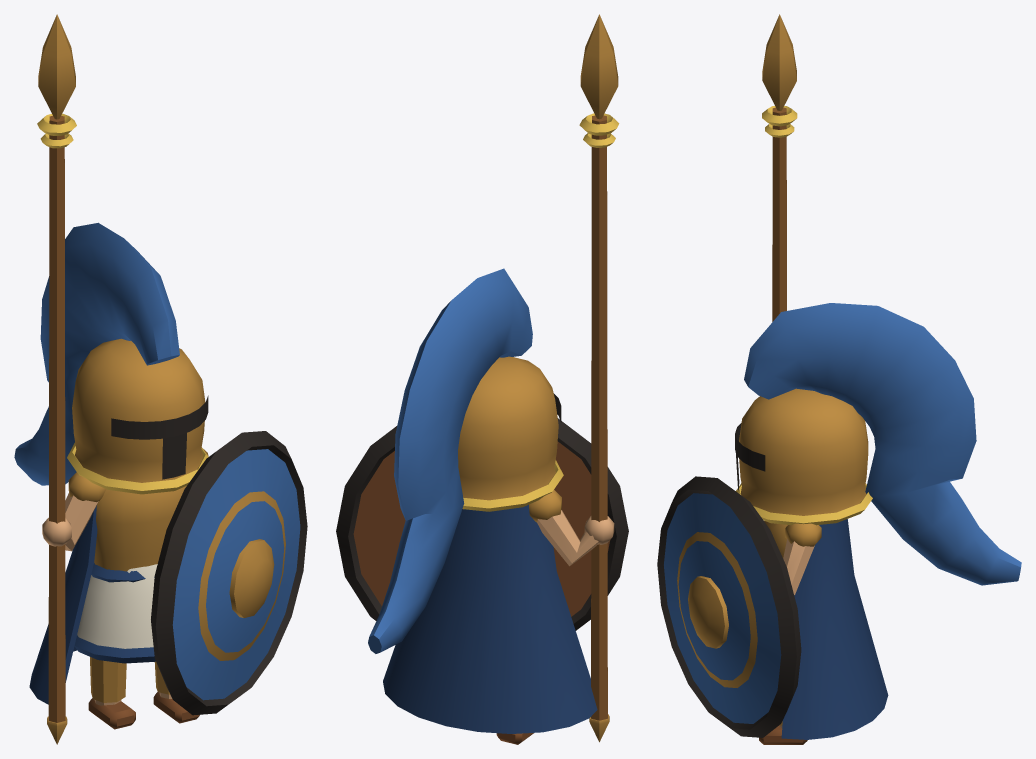
Rendered from hector.glb.
The picture shows the model from 3 angles, left to right: view 1: azimuth 30°, elevation 25°; view 2: azimuth 150°, elevation 25°; view 3: azimuth 270°, elevation 25°; orthographic projection. The views are drawn at different scales.
Visible parts, largest first — view 1: hector; view 2: hector; view 3: hector.
Part boxes in pixels (x1=…): hector: x1=14, y1=14, x2=307, y2=744; hector: x1=336, y1=14, x2=628, y2=744; hector: x1=657, y1=14, x2=1021, y2=744.
Bounding box in the file's own units: 0.6147 × 1.57 × 0.7703.
